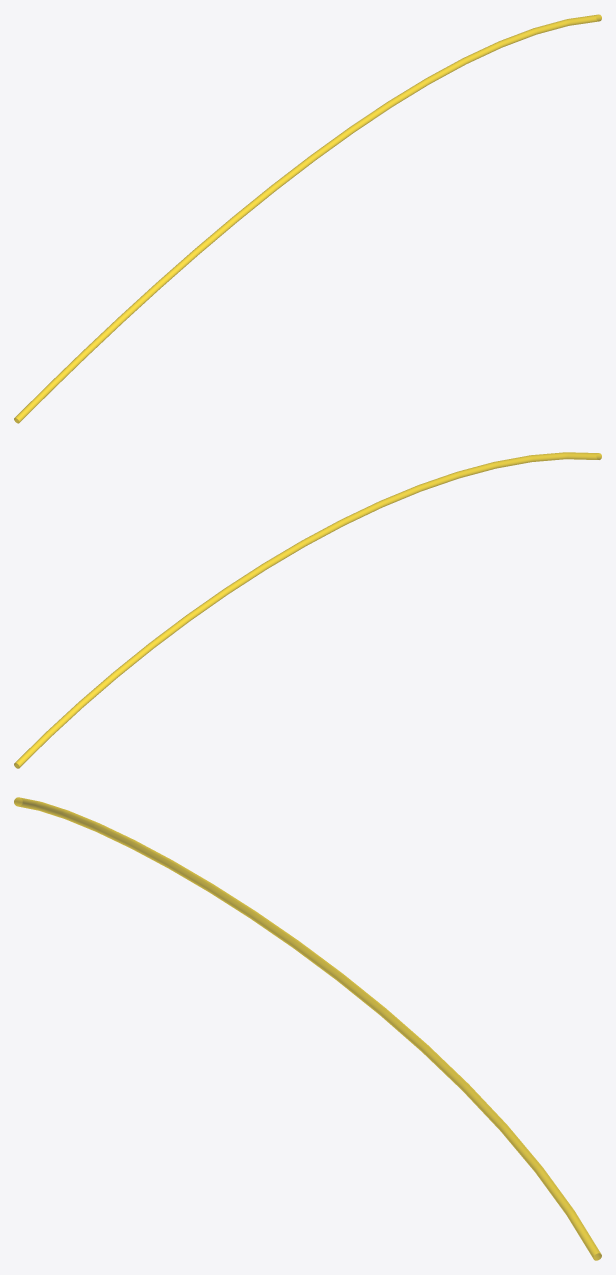
Rendered from Event_402970704_track_4.fbx.
3 views of the same model, one above another, from view 1: azimuth 30°, elevation 25°; view 2: azimuth 210°, elevation 25°; view 3: azimuth 270°, elevation 25° (orthographic). The views are drawn at different scales.
Visible parts, largest first — view 1: Model; view 2: Model; view 3: Model.
Part boxes in pixels (left/top/right/bottom): Model: left=14, top=14, right=601, bottom=423; Model: left=14, top=452, right=601, bottom=768; Model: left=14, top=797, right=601, bottom=1260.
Size of the model in its own units: 5.27 by 0.6065 by 2.53.
